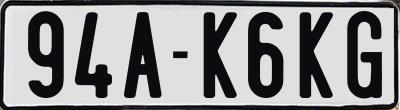4: (74, 10, 114, 96)
6: (245, 12, 282, 104)
9: (28, 9, 67, 97)
A: (124, 9, 165, 101)
G: (345, 10, 382, 100)
K: (201, 10, 238, 98), (300, 12, 336, 102)
